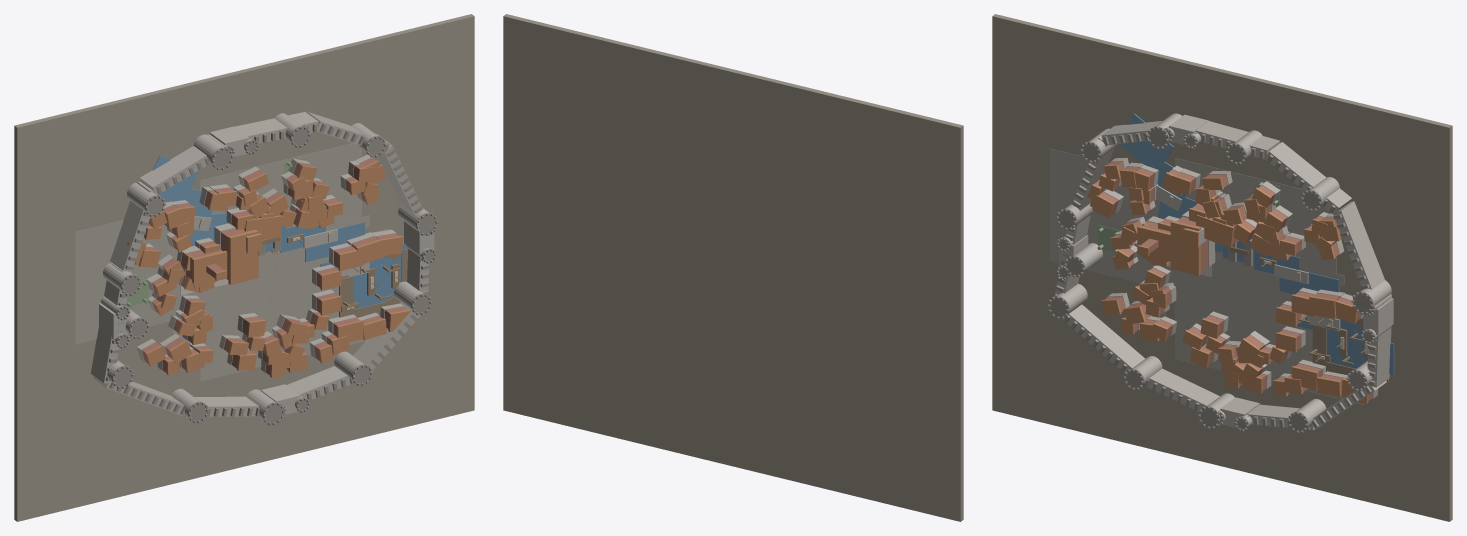
File: Ambrezzo_v2.glb
3 renders of one model, left to right at view 1: azimuth 30°, elevation 25°; view 2: azimuth 150°, elevation 25°; view 3: azimuth 330°, elevation 25°, orthographic.
Visible parts, largest first — view 1: Ground_Platform, West_City_Mass, SouthEast_City_Mass, NorthEast_City_Mass, Wall_1, Harbor_Basin_Main, Wall_2, Duomo_Block_roof, Wall_0, Wall_7, East_Main_Road, Wall_8 (+16 smaller); view 2: Ground_Platform; view 3: Ground_Platform, SouthEast_City_Mass, West_City_Mass, NorthEast_City_Mass, Wall_5, Wall_10, Wall_4, Wall_9, Duomo_Block_roof, Wall_3, Harbor_Basin_Main, East_Main_Road (+15 smaller).
Part boxes in pixels (x1,y1,x2,y2): Ground_Platform: (14, 14, 474, 521); West_City_Mass: (75, 205, 250, 344); SouthEast_City_Mass: (200, 228, 388, 381); NorthEast_City_Mass: (200, 143, 361, 269); Wall_1: (110, 181, 157, 271); Harbor_Basin_Main: (353, 243, 407, 309); Wall_2: (140, 146, 206, 194); Duomo_Block_roof: (228, 230, 258, 284); Wall_0: (91, 262, 131, 383); Wall_7: (353, 302, 420, 371); East_Main_Road: (265, 195, 295, 335); Wall_8: (286, 366, 350, 399); Ground_Platform: (503, 14, 963, 521); Ground_Platform: (992, 14, 1452, 521); SouthEast_City_Mass: (1175, 262, 1363, 405); West_City_Mass: (1050, 148, 1224, 300); NorthEast_City_Mass: (1175, 158, 1336, 277); Wall_5: (1333, 201, 1390, 306); Wall_10: (1062, 304, 1145, 372); Wall_4: (1265, 142, 1351, 213); Wall_9: (1143, 368, 1219, 411); Duomo_Block_roof: (1170, 220, 1200, 275); Wall_3: (1195, 121, 1280, 159); Harbor_Basin_Main: (1326, 318, 1363, 368); East_Main_Road: (1239, 205, 1277, 341).
Size of the model in its own units: 340 by 280 by 38.7.
